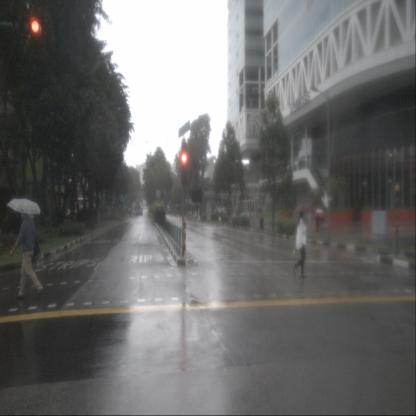human-pedestrian-adult: (7, 198, 45, 300), (292, 204, 312, 279), (316, 209, 324, 231)
